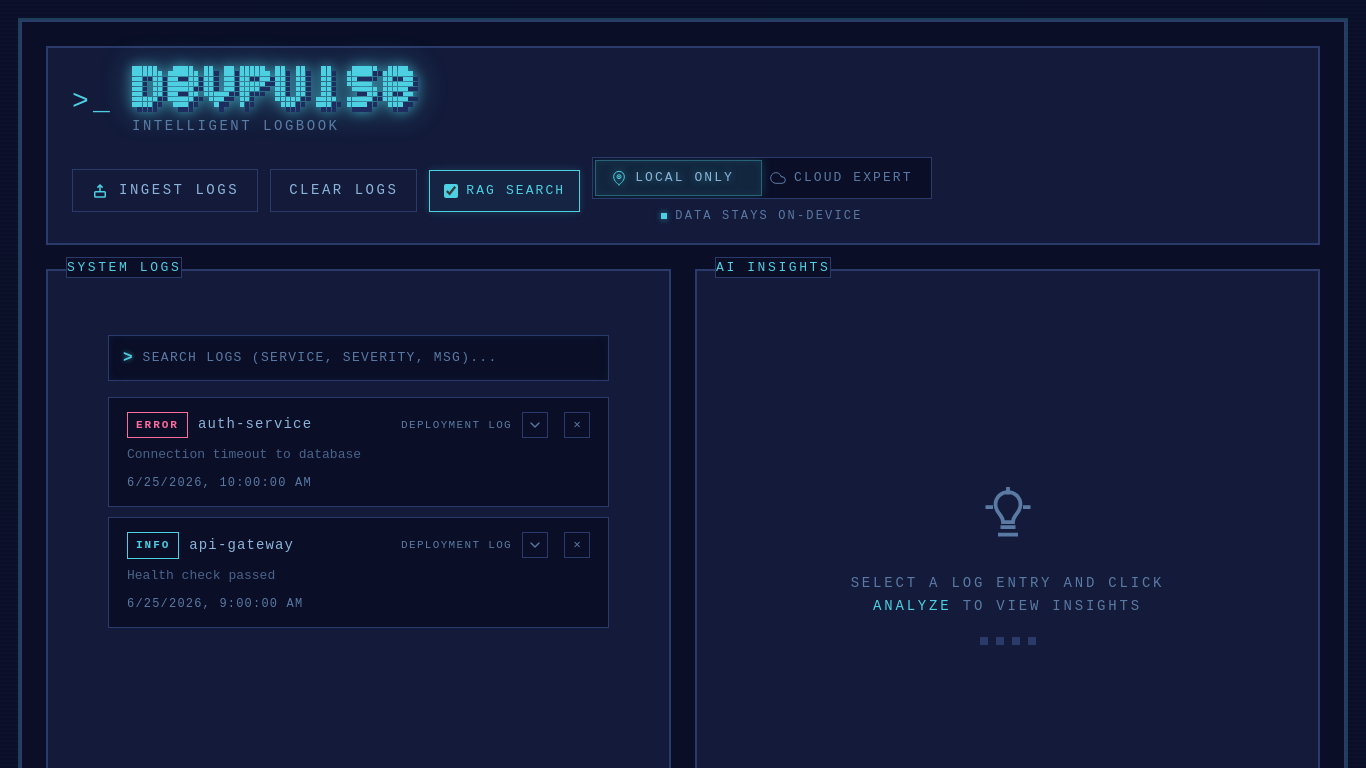
App › clear logs › should clear all logs and show notification
Expected: the text "auth-service" is shown, [198,414,312,435]
Click the button "Clear Logs".
click(344, 191)  # box [270,169,417,212]
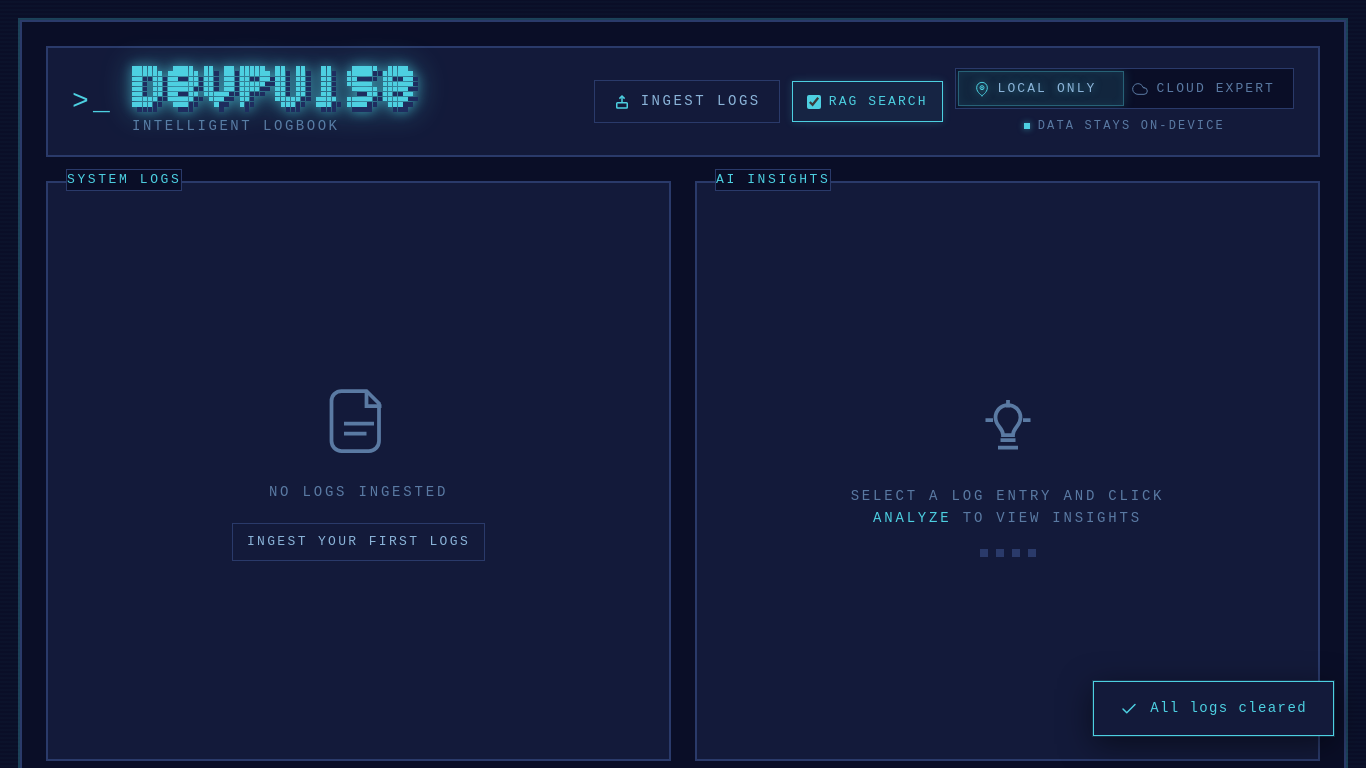
Now the text "No Logs Ingested" is shown, box [269,481,448,503]
Now the text "All logs cleared" is shown, box [1093,681,1334,736]
